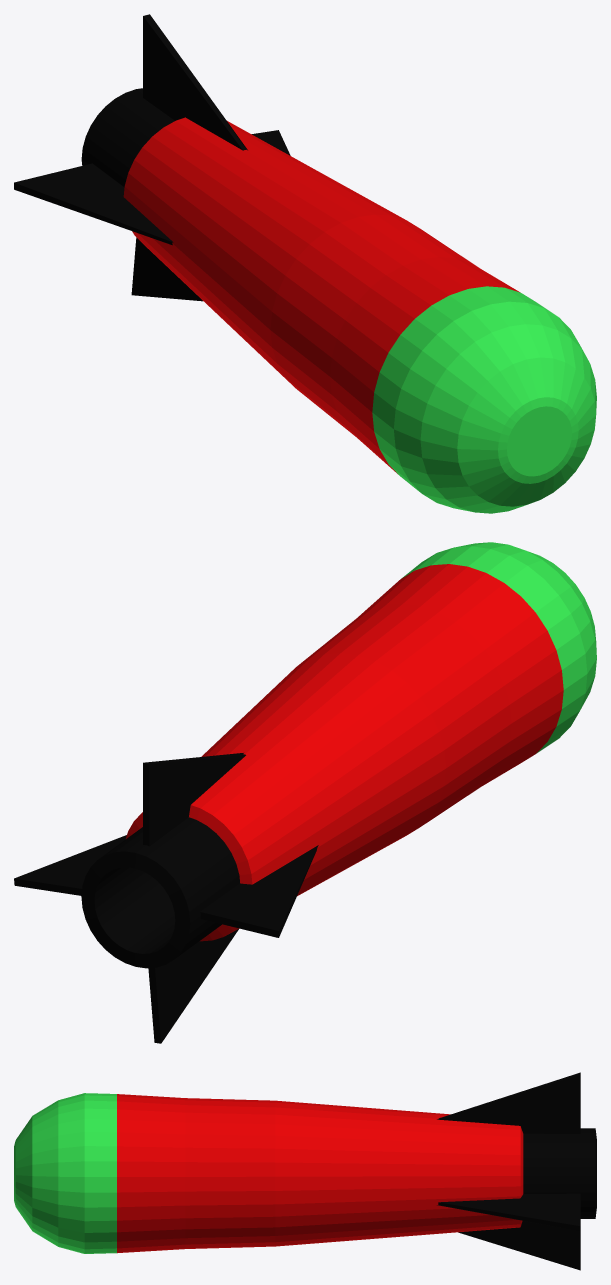
The model's file is rocketJW.fbx.
The picture shows the model from 3 angles, top to bottom: view 1: azimuth 30°, elevation 25°; view 2: azimuth 150°, elevation 25°; view 3: azimuth 270°, elevation 25°; orthographic projection. The views are drawn at different scales.
Parts seen in each view (by area): view 1: Rocket; view 2: Rocket; view 3: Rocket.
Boxes of the visible parts, box(x1,y1,x2,y2) form: Rocket: box(14, 14, 596, 513); Rocket: box(14, 542, 596, 1043); Rocket: box(14, 1072, 596, 1270).
Bounding box in the file's own units: 34.04 × 34.04 × 90.07.
